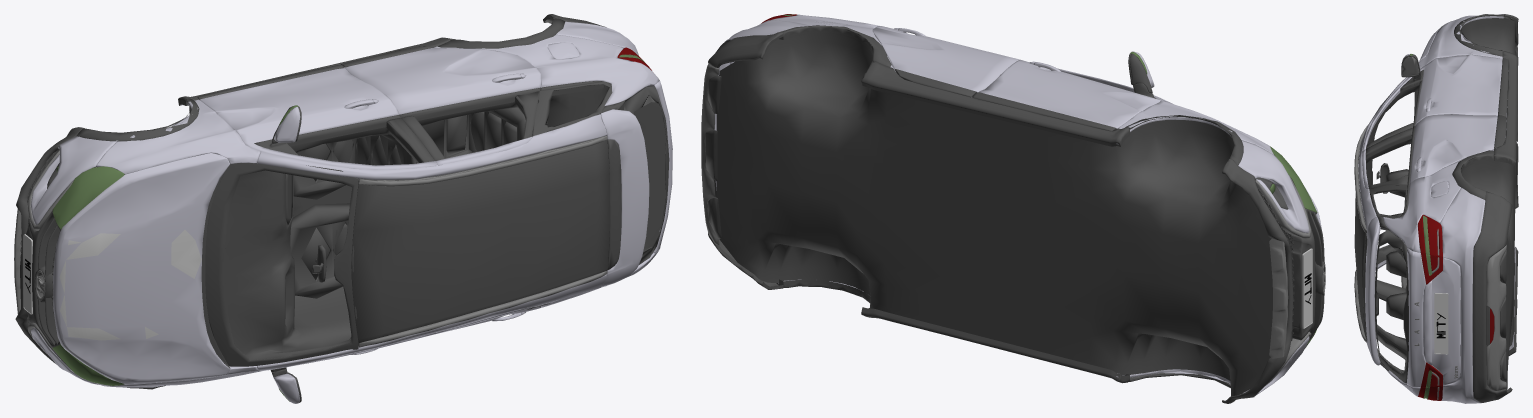
The model's file is vesta.obj.
3 views of the same model, side by side, from view 1: azimuth 30°, elevation 25°; view 2: azimuth 150°, elevation 25°; view 3: azimuth 270°, elevation 25° (orthographic). The views are drawn at different scales.
Visible parts, largest first — view 1: Lada_Vesta_Cross_2015; view 2: Lada_Vesta_Cross_2015; view 3: Lada_Vesta_Cross_2015.
Boxes of the visible parts, x1=… form: Lada_Vesta_Cross_2015: x1=14, y1=14, x2=672, y2=403; Lada_Vesta_Cross_2015: x1=701, y1=14, x2=1325, y2=403; Lada_Vesta_Cross_2015: x1=1354, y1=14, x2=1518, y2=403.
Size of the model in its own units: 4.44 by 2.06 by 1.28.
